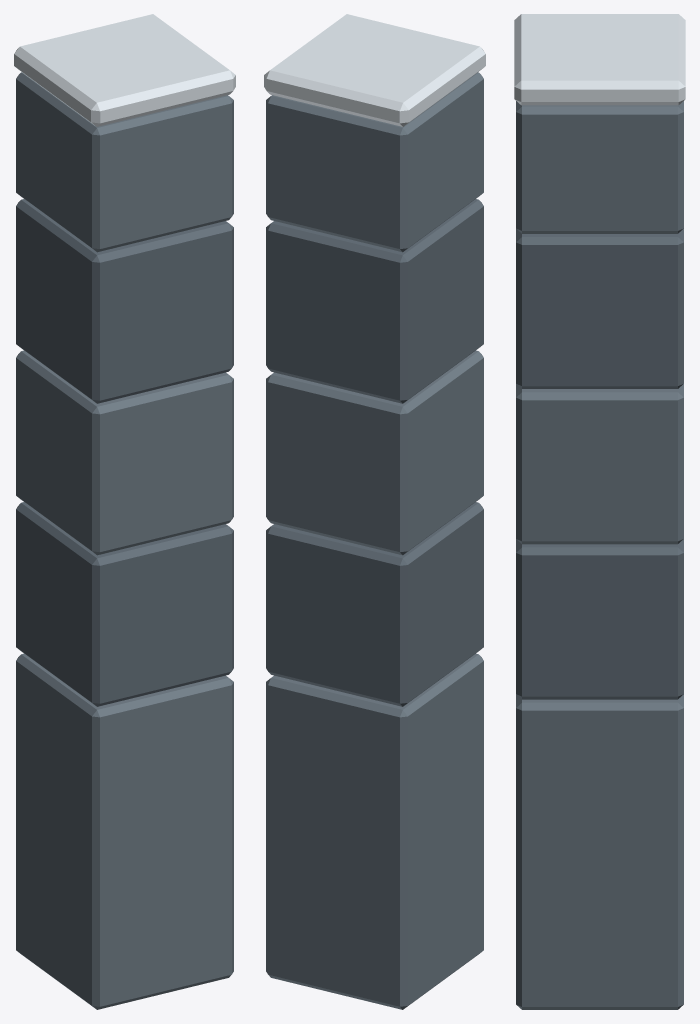
Rendered from column-rime-5b.glb.
3 renders of one model, left to right at view 1: azimuth 30°, elevation 25°; view 2: azimuth 150°, elevation 25°; view 3: azimuth 270°, elevation 25°, orthographic. The views are drawn at different scales.
Visible parts, largest first — view 1: column-rime-5b; view 2: column-rime-5b; view 3: column-rime-5b.
Boxes of the visible parts, x1=… form: column-rime-5b: x1=14, y1=14, x2=235, y2=1009; column-rime-5b: x1=264, y1=14, x2=485, y2=1009; column-rime-5b: x1=514, y1=14, x2=685, y2=1009.
Bounding box in the file's own units: 1 × 5.99 × 1.
